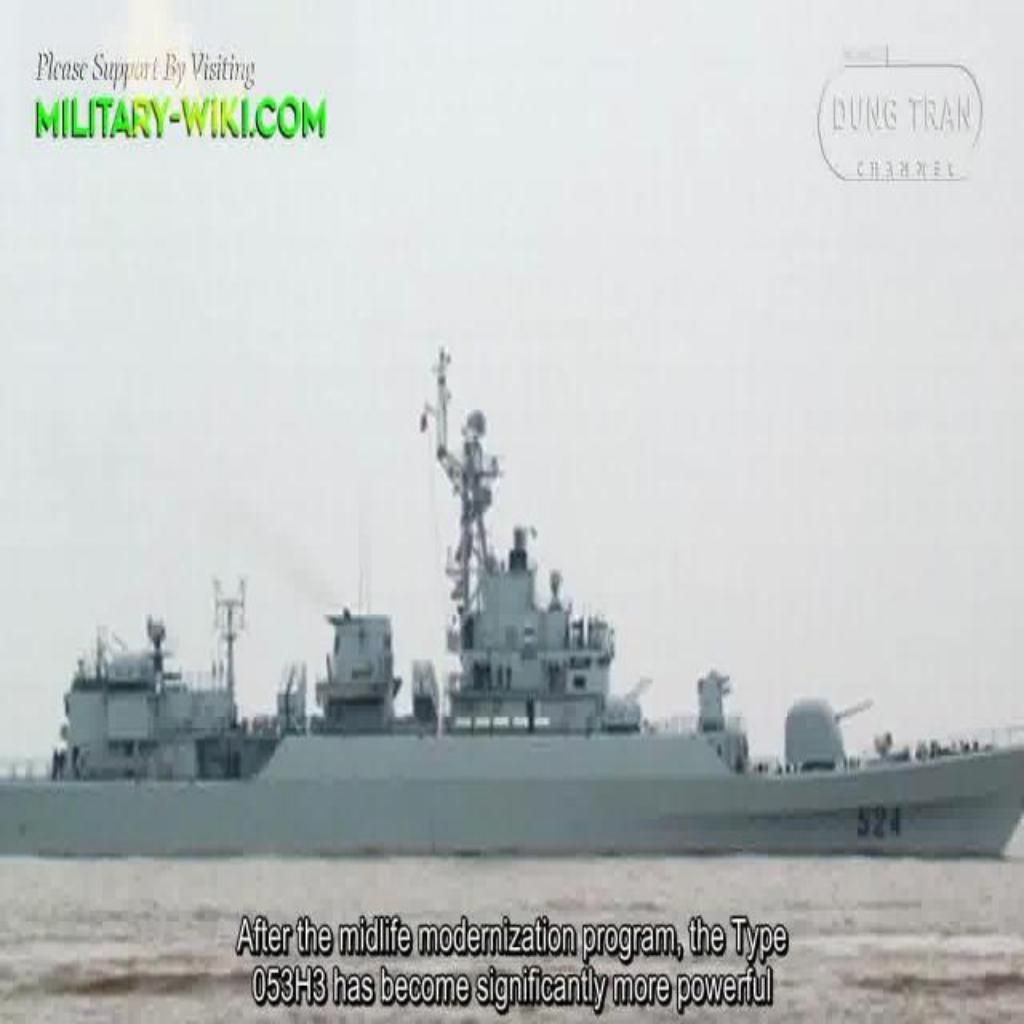Warship: (4, 342, 1024, 868)
